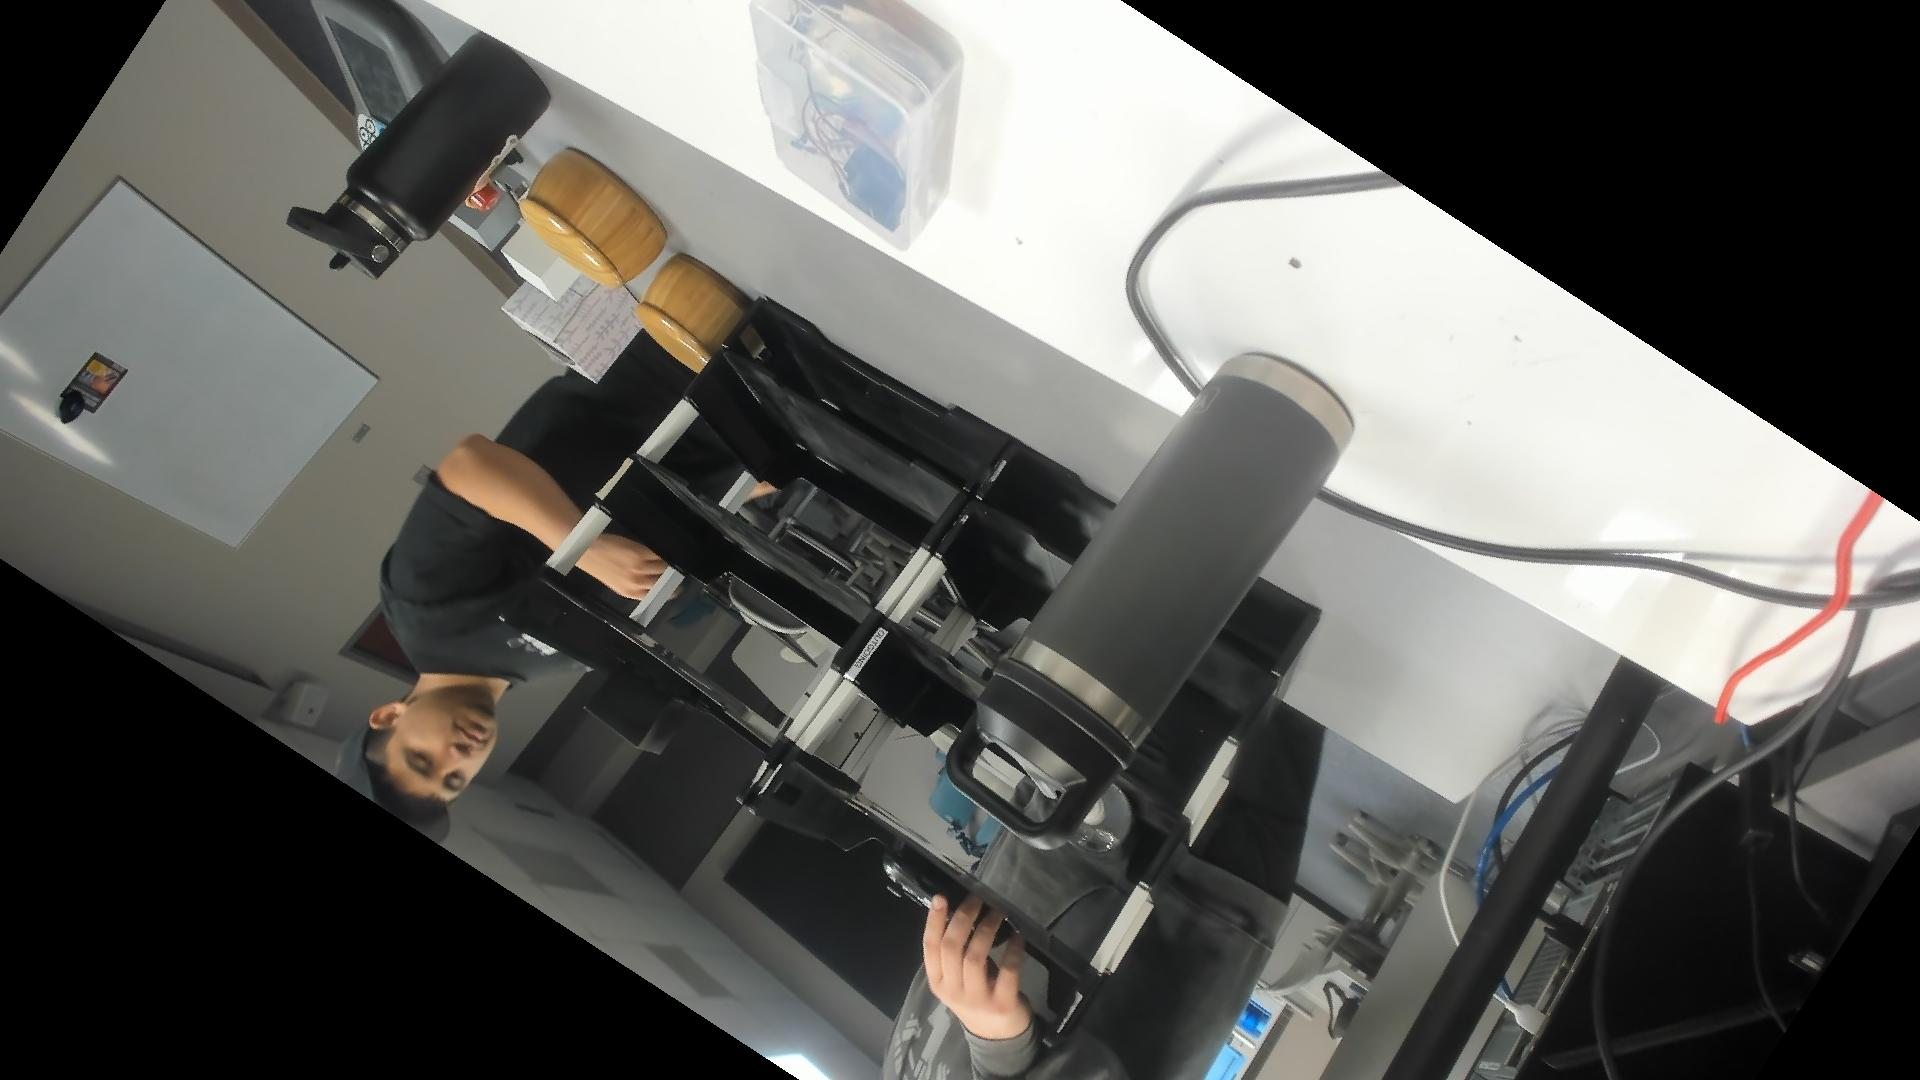black pallet: (576, 651, 705, 762)
grey pallet: (444, 161, 531, 255)
white pallet: (496, 218, 582, 303)
